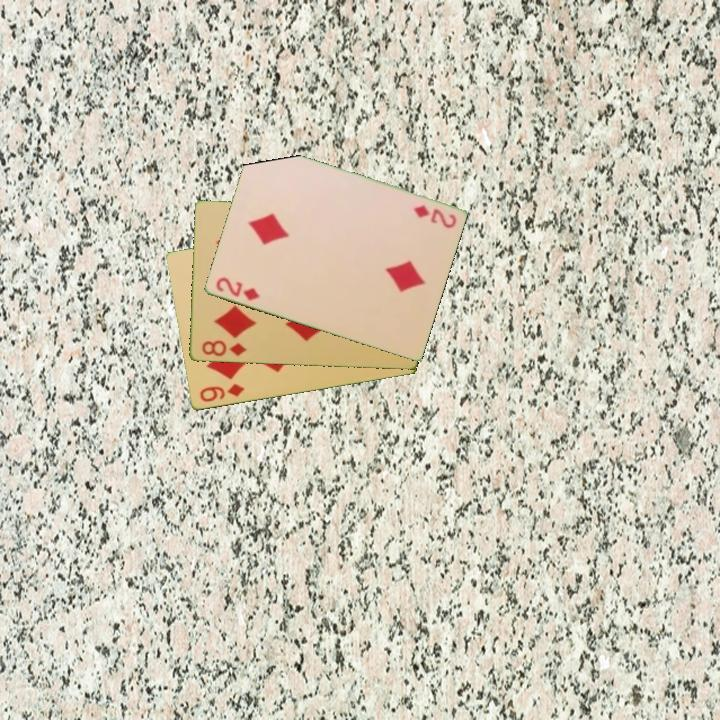2d: (212, 274, 262, 304), (410, 202, 459, 231)
8d: (198, 337, 249, 360)
9d: (196, 380, 247, 405)
